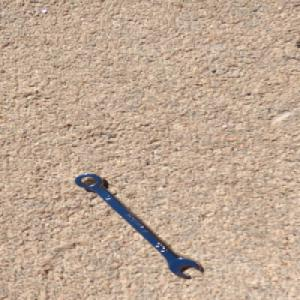Wrench: (73, 171, 204, 280)
